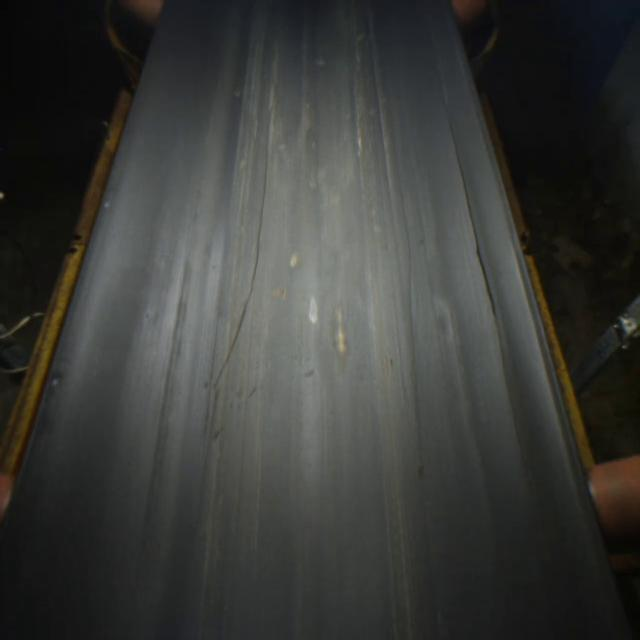Tear: (432, 97, 530, 476), (197, 113, 278, 444)
